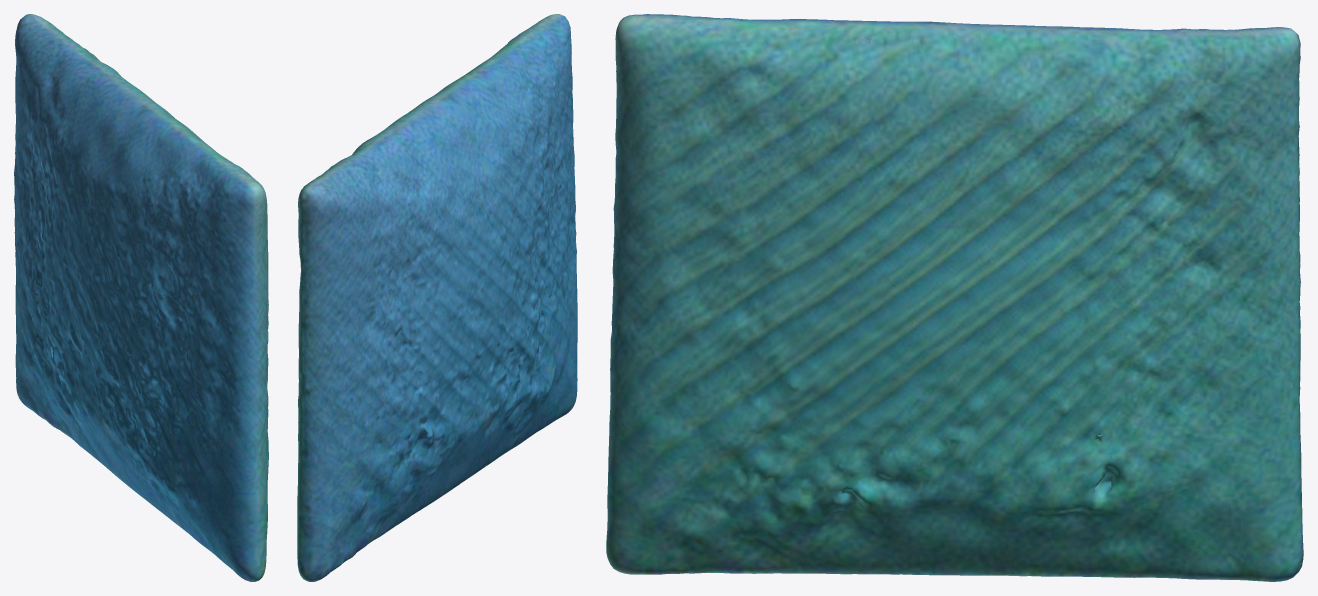
Rendered from wall.glb.
3 views of the same model, side by side, from view 1: azimuth 30°, elevation 25°; view 2: azimuth 150°, elevation 25°; view 3: azimuth 270°, elevation 25° (orthographic). The views are drawn at different scales.
Visible parts, largest first — view 1: Mesh1; view 2: Mesh1; view 3: Mesh1.
Boxes of the visible parts, left/top/right/bottom form: Mesh1: left=14, top=14, right=268, bottom=581; Mesh1: left=297, top=14, right=577, bottom=581; Mesh1: left=606, top=14, right=1303, bottom=581.
Size of the model in its own units: 0.2843 by 1.06 by 1.2.
1 material, 1 textured.
